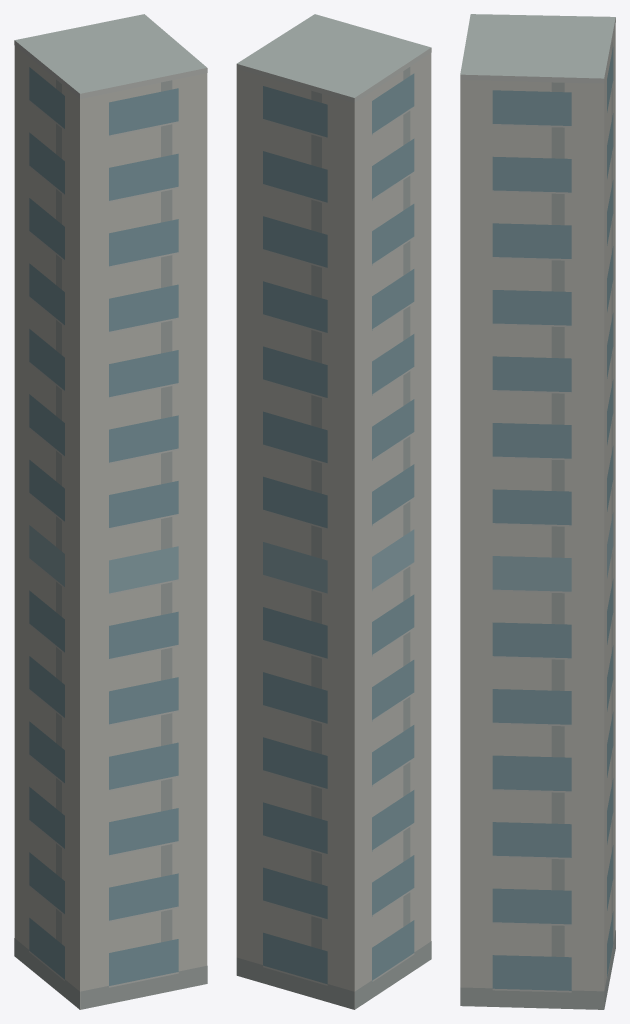
Rendered from survey-upis-32744250.glb.
3 views of the same model, side by side, from view 1: azimuth 30°, elevation 25°; view 2: azimuth 150°, elevation 25°; view 3: azimuth 270°, elevation 25° (orthographic). The views are drawn at different scales.
Parts seen in each view (by area): view 1: survey-upis-32744250.tmp; view 2: survey-upis-32744250.tmp; view 3: survey-upis-32744250.tmp.
Part boxes in pixels (x1=…): survey-upis-32744250.tmp: x1=14, y1=14, x2=207, y2=1009; survey-upis-32744250.tmp: x1=236, y1=14, x2=431, y2=1009; survey-upis-32744250.tmp: x1=460, y1=14, x2=615, y2=1009.
Bounding box in the file's own units: 6.35 × 42.7 × 6.48.
